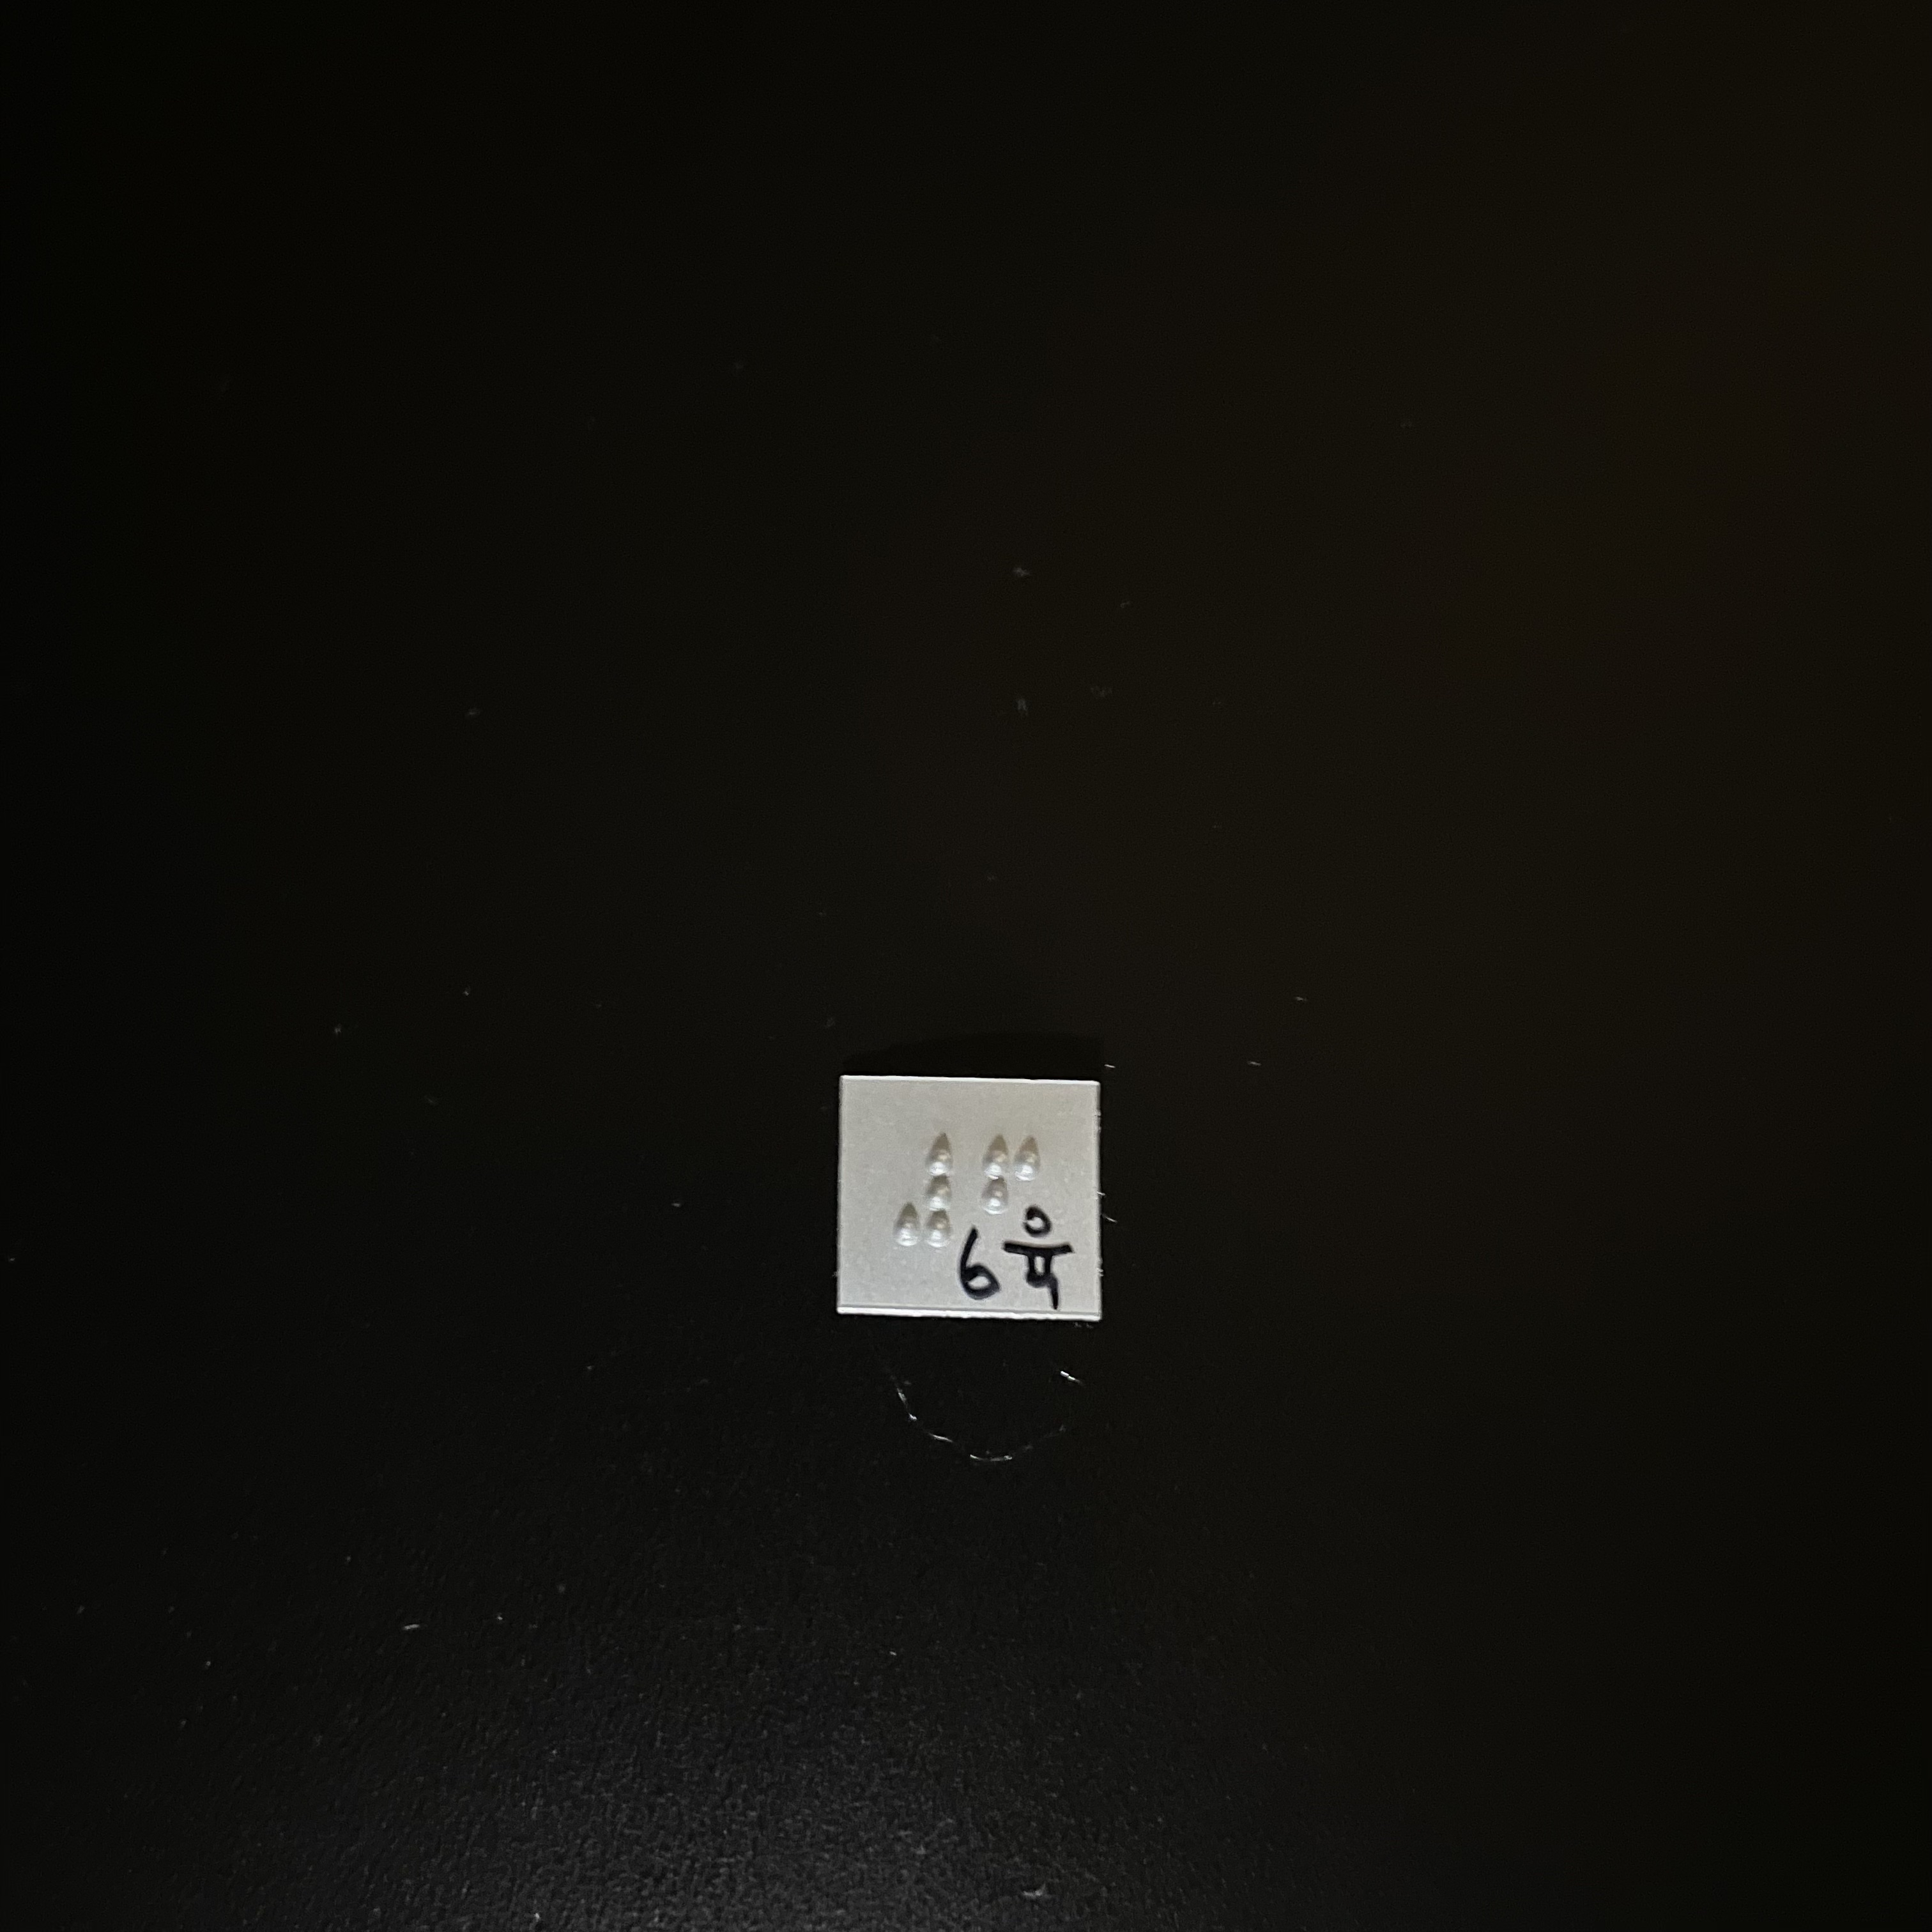#: (891, 1130, 965, 1255)
f: (972, 1128, 1049, 1260)
